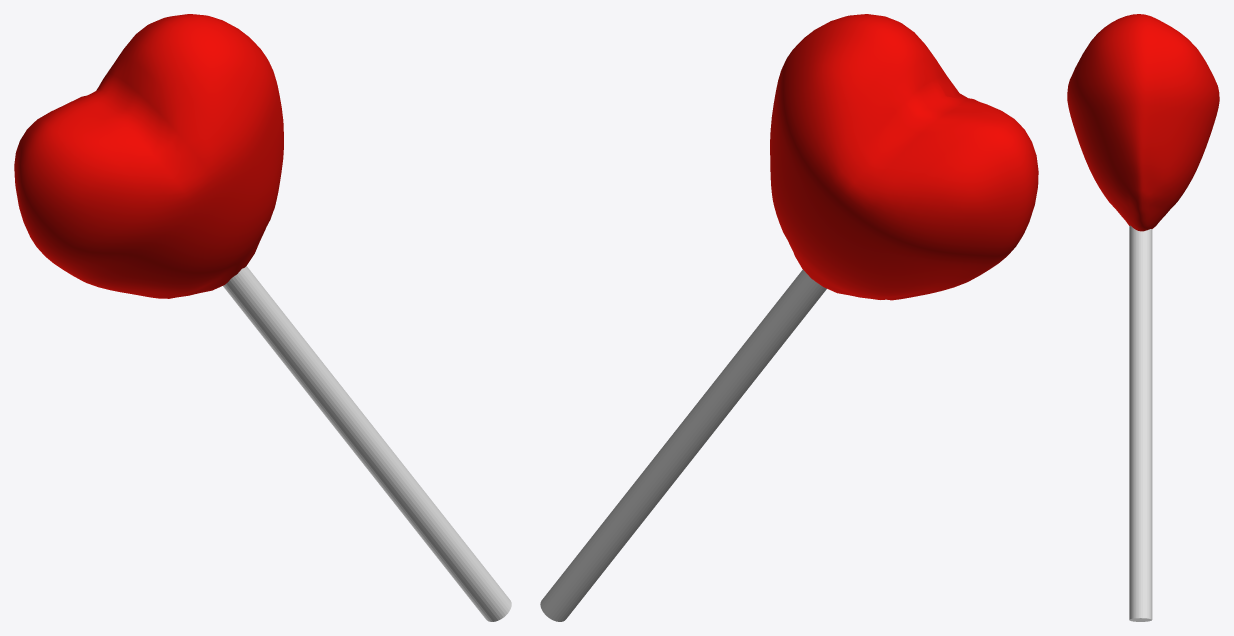
The model's file is candy.fbx.
3 renders of one model, left to right at view 1: azimuth 30°, elevation 25°; view 2: azimuth 150°, elevation 25°; view 3: azimuth 270°, elevation 25°, orthographic. The views are drawn at different scales.
Parts seen in each view (by area): view 1: Cube.001, Cylinder.001; view 2: Cube.001, Cylinder.001; view 3: Cube.001, Cylinder.001.
Boxes of the visible parts, x1,y1,x2,y2 form: Cube.001: (14,14,283,298); Cylinder.001: (223,266,511,621); Cube.001: (770,14,1038,300); Cylinder.001: (540,269,826,621); Cube.001: (1067,14,1219,231); Cylinder.001: (1129,225,1152,621).
Bounding box in the file's own units: 314 × 416 × 116.
